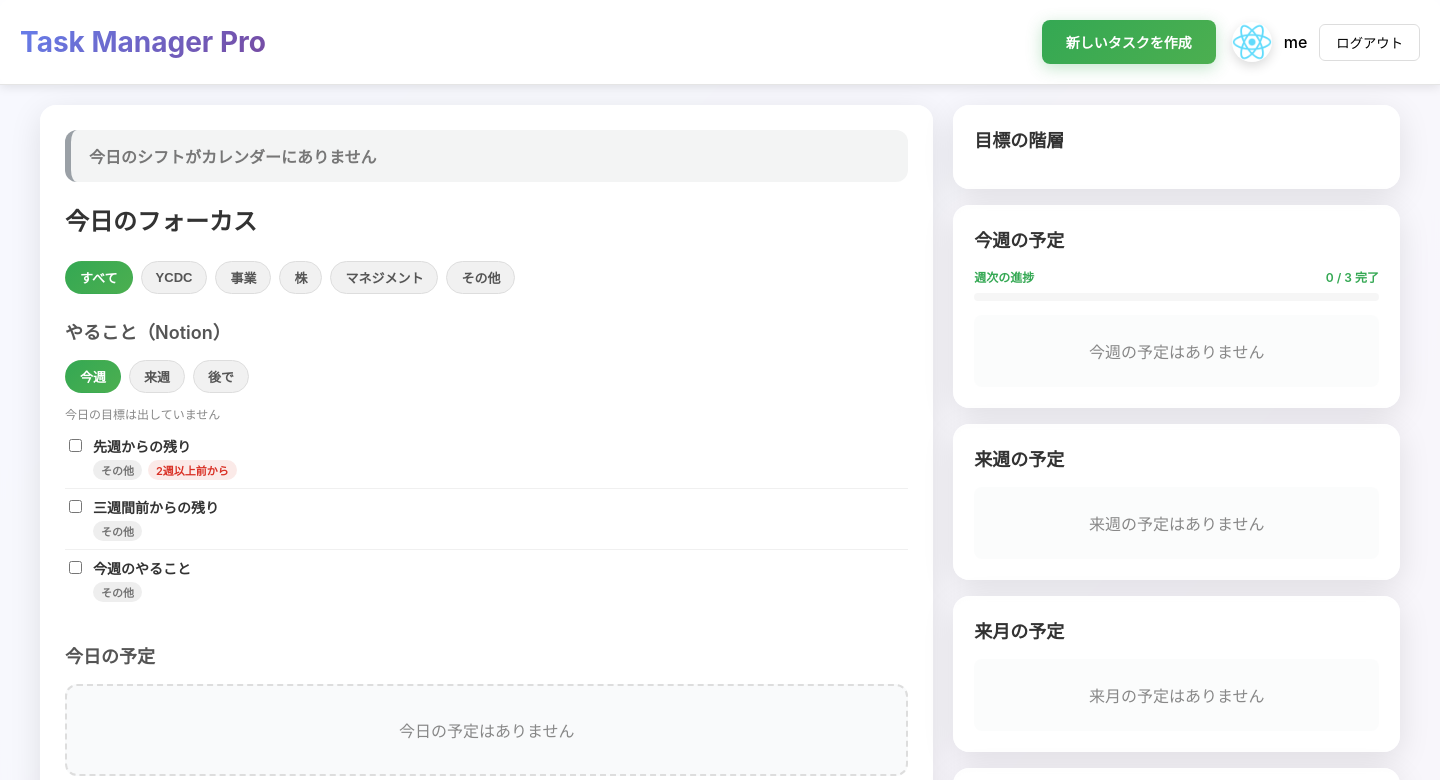
it: an unfinished row whose 予定週 is last week or earlier is carried over to 今週, and is not under 後で
Expected: the text "先週からの残り" is shown, [93, 438, 191, 455]
Expected: the text "2週以上前から" is shown, [148, 460, 237, 480]
Click the button "後で". click: {"x": 221, "y": 376}
box: [193, 360, 249, 393]
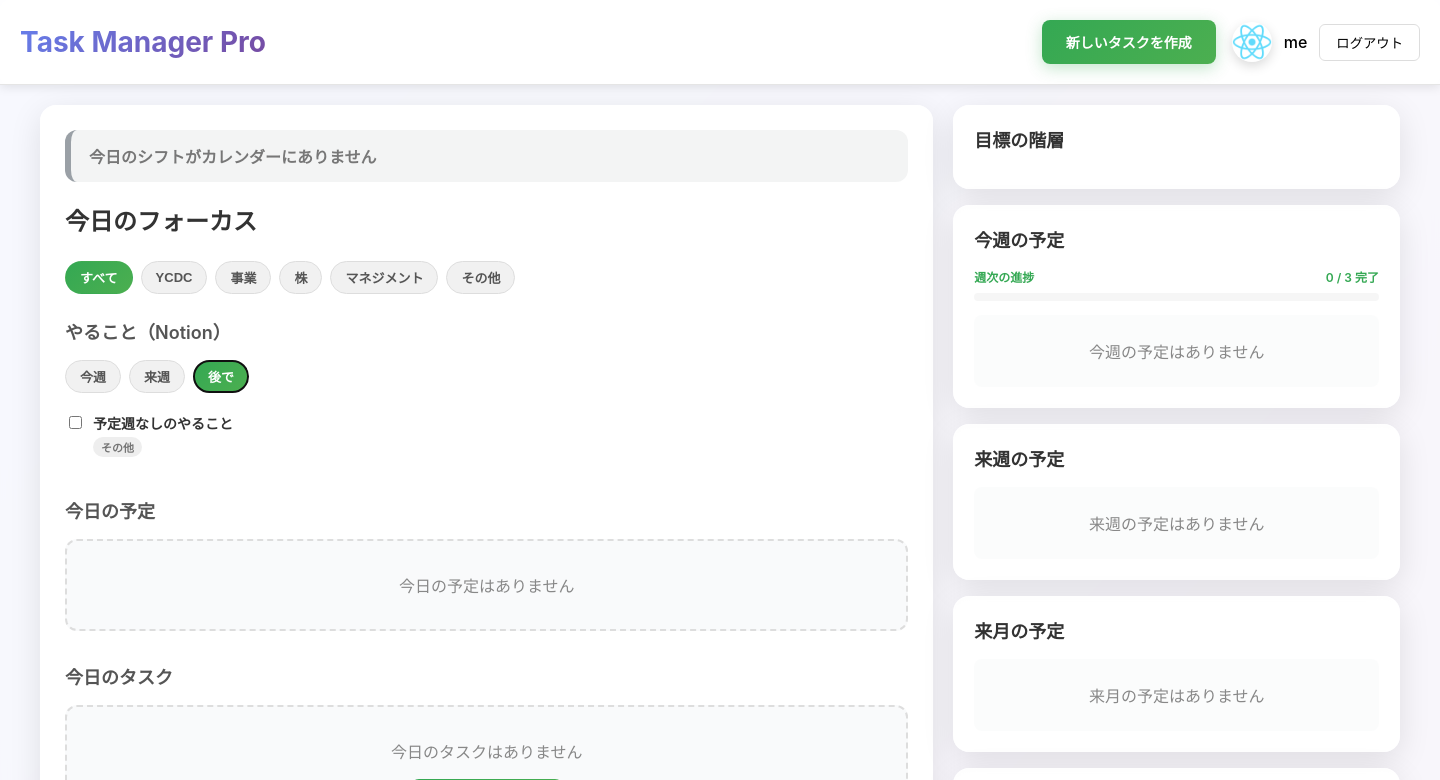
Expected: the text "予定週なしのやること" is shown, [93, 415, 233, 432]
Expected: the button "先週からの残り" is gone
Expected: the button "三週間前からの残り" is gone
「来週」にも出ない
Click the button "来週". click: {"x": 157, "y": 376}
box: [129, 360, 185, 393]
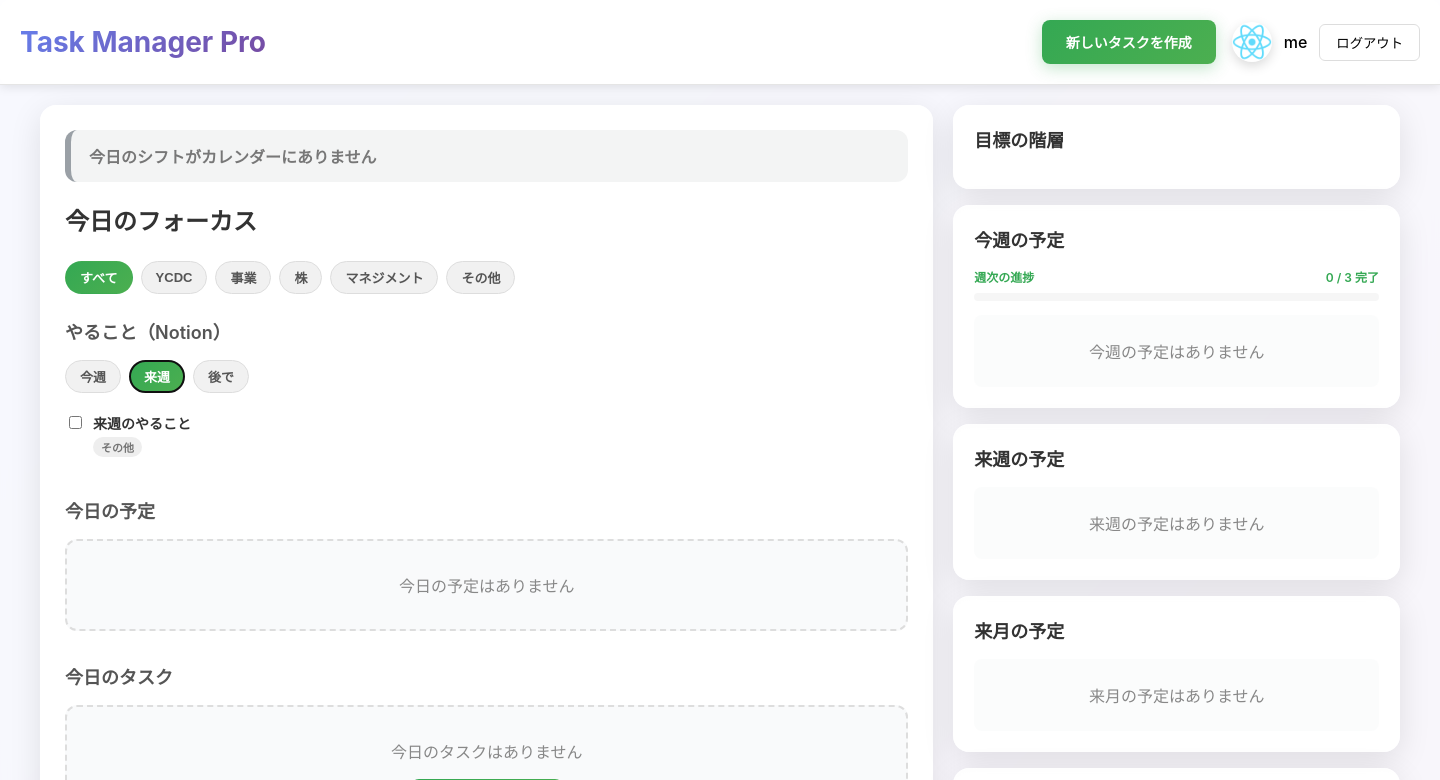
Expected: the button "先週からの残り" is not shown
Expected: the text "来週のやること" is shown, [93, 415, 191, 432]
